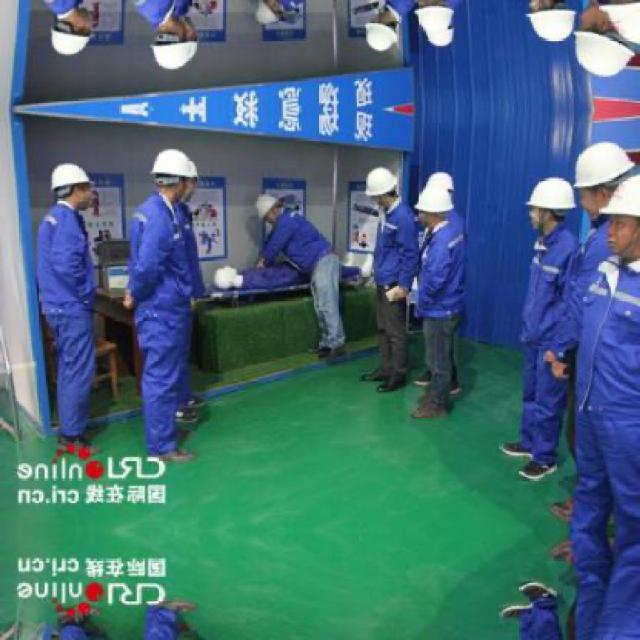helmet: (574, 0, 635, 82), (574, 135, 634, 217), (600, 170, 638, 262), (520, 174, 577, 232), (43, 0, 96, 58), (43, 157, 95, 215), (520, 0, 578, 43), (151, 144, 192, 198), (151, 18, 192, 72), (600, 0, 640, 46), (416, 188, 456, 229), (366, 163, 400, 203), (366, 12, 400, 52), (414, 0, 455, 29), (252, 188, 282, 225), (178, 156, 202, 202), (178, 14, 202, 60), (423, 171, 455, 200), (423, 17, 455, 46), (252, 0, 283, 29)
